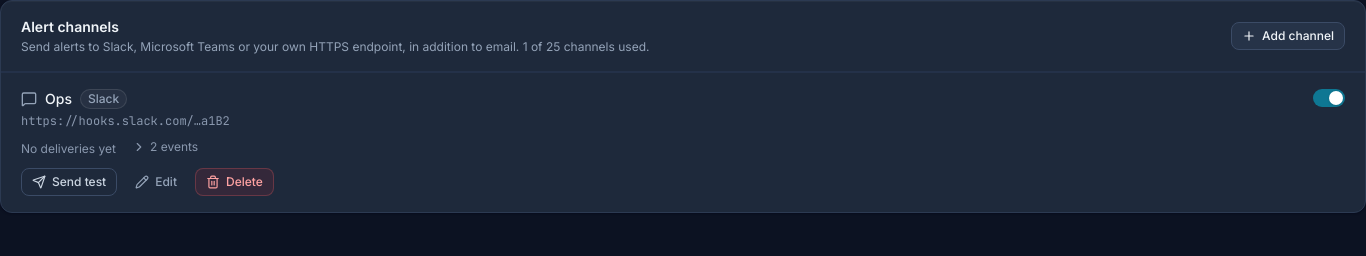
AlertChannels › shows a successful test send
Click the button with aria-label "Send test to Ops": point(69, 182) [21, 168, 117, 196]
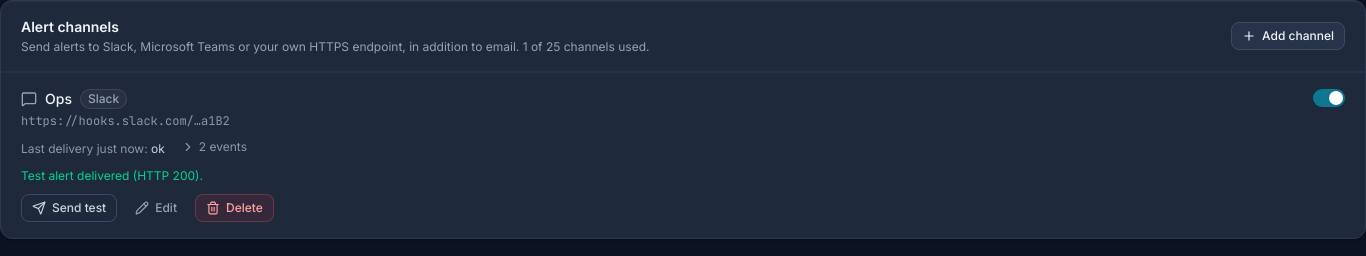
Expected: the message reads "Test alert delivered (HTTP 200).", [21, 168, 203, 183]
